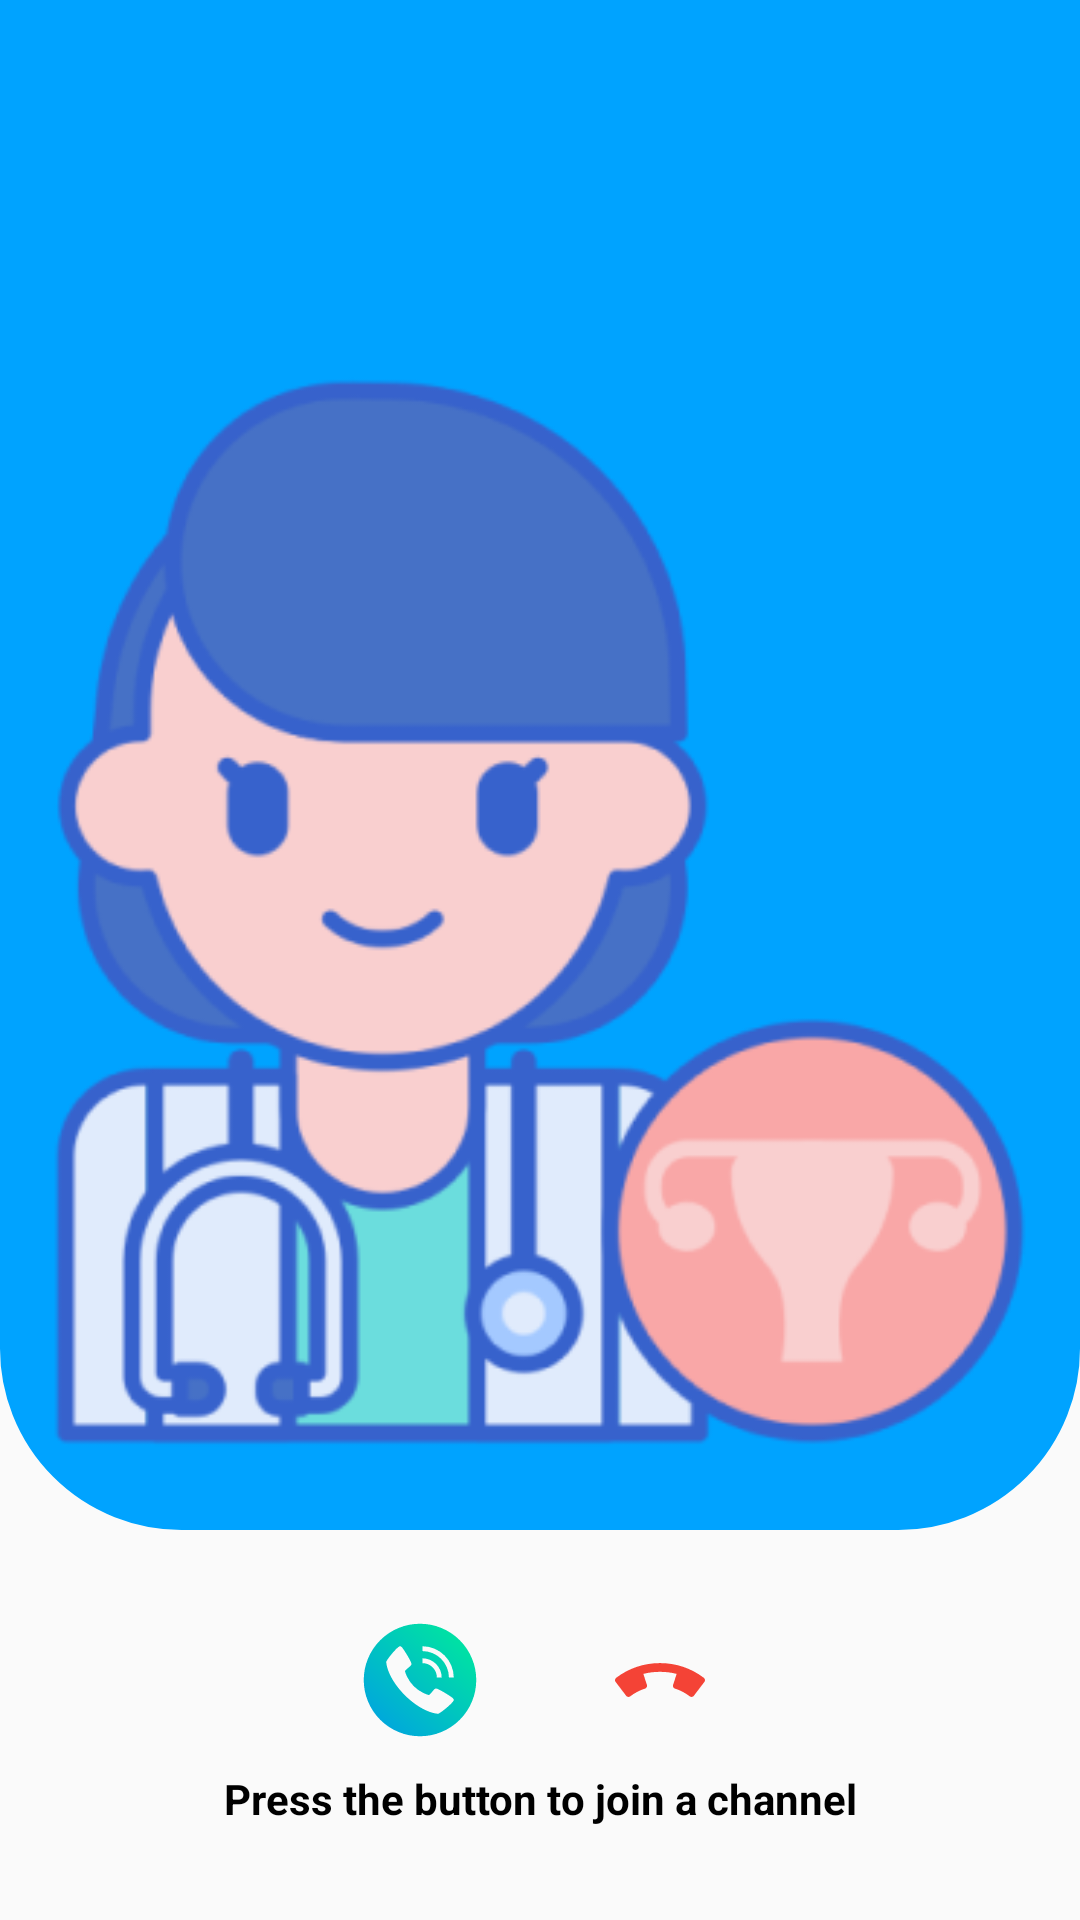

Icons on this 1080 × 1920 Android screen, each with the point to tap as [x,y]:
phone call end: [660,1680]
telephone: [420,1680]
